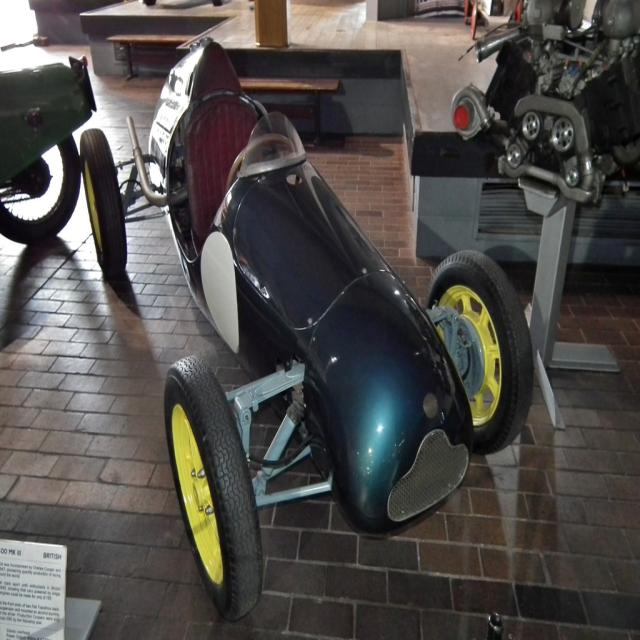car: (80, 36, 533, 621)
